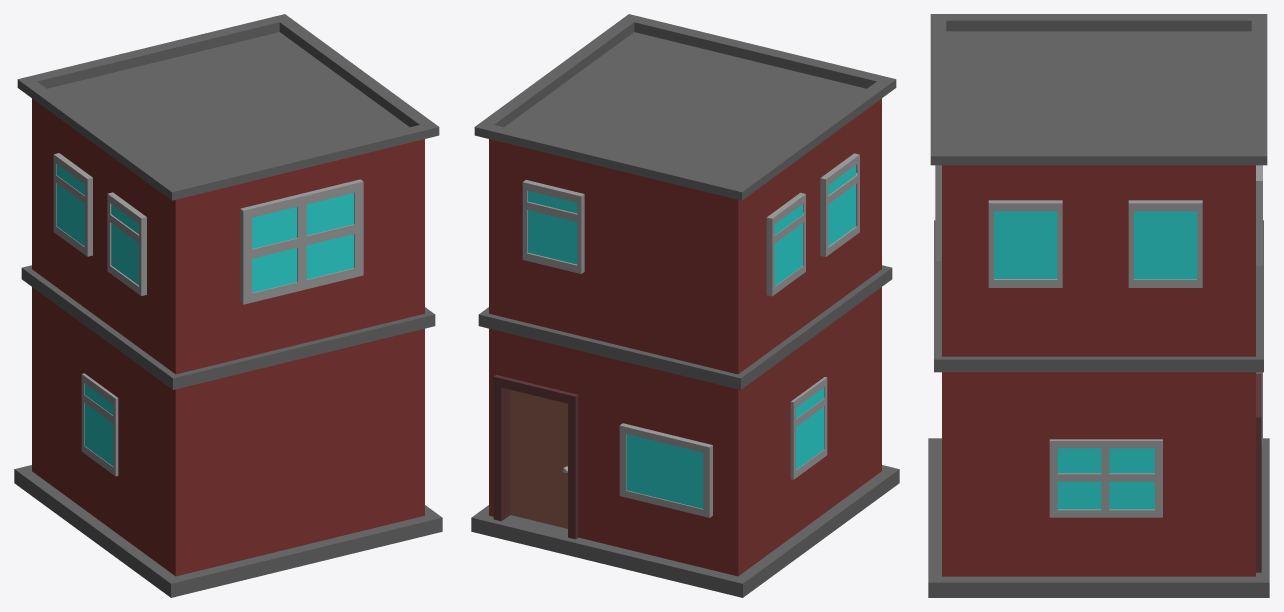
The model's file is House1.fbx.
3 views of the same model, side by side, from view 1: azimuth 30°, elevation 25°; view 2: azimuth 150°, elevation 25°; view 3: azimuth 270°, elevation 25° (orthographic). The views are drawn at different scales.
Parts seen in each view (by area): view 1: Cube; view 2: Cube; view 3: Cube.
Boxes of the visible parts, left/top/right/bottom form: Cube: left=14, top=14, right=442, bottom=597; Cube: left=471, top=14, right=899, bottom=597; Cube: left=928, top=14, right=1269, bottom=597.
Bounding box in the file's own units: 218 × 311 × 218.
